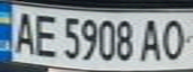0: (97, 16, 118, 62)
5: (57, 14, 81, 61)
8: (115, 17, 139, 63)
9: (78, 16, 100, 62)
A: (9, 8, 39, 55), (136, 16, 166, 62)
E: (30, 11, 60, 58)
O: (157, 16, 190, 62)
